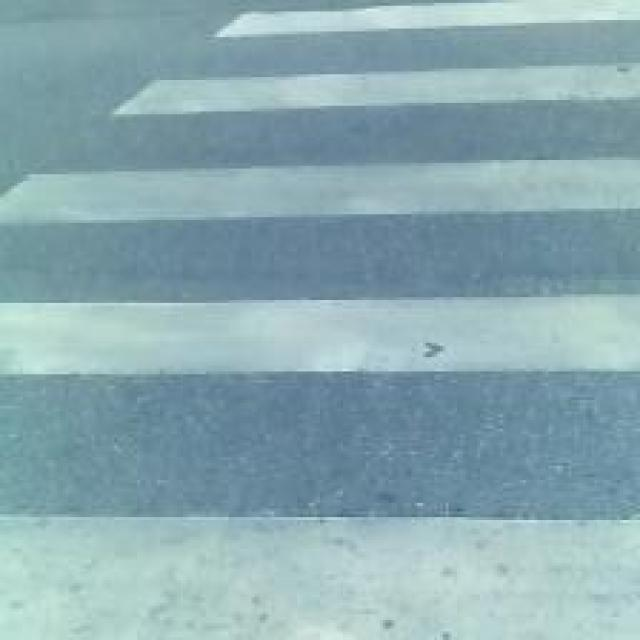zebra: (213, 20, 633, 640)
